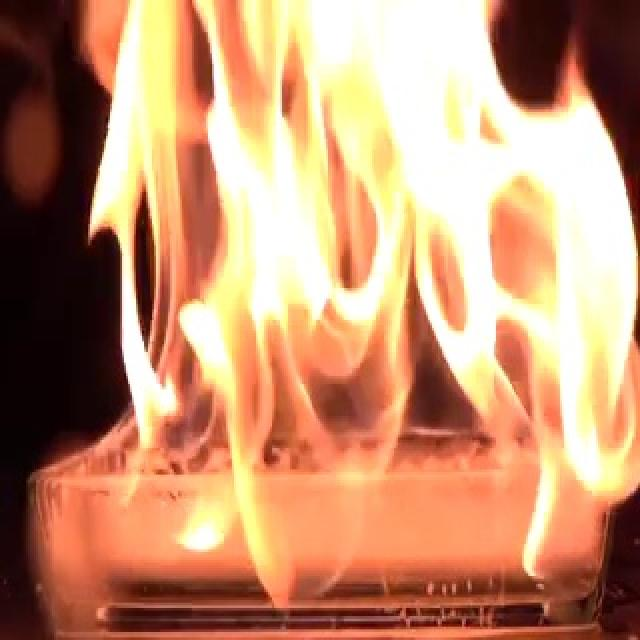fire: (77, 0, 640, 572)
